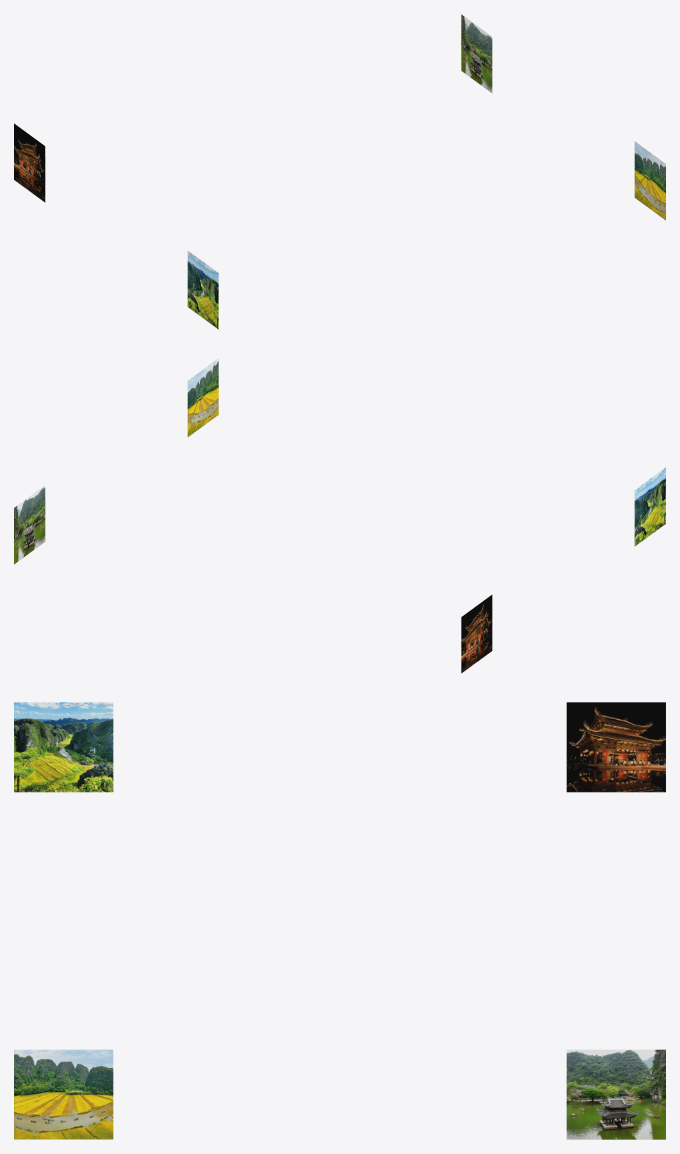
The model's file is bonus img ninhbinh.glb.
3 renders of one model, top to bottom at view 1: azimuth 30°, elevation 25°; view 2: azimuth 150°, elevation 25°; view 3: azimuth 270°, elevation 25°, orthographic. The views are drawn at different scales.
Visible parts, largest first — view 1: bonus_img; view 2: bonus_img; view 3: bonus_img.
Boxes of the visible parts, bbox=[...] form: bonus_img: bbox=[14, 14, 665, 329]; bonus_img: bbox=[14, 358, 665, 673]; bonus_img: bbox=[14, 702, 665, 1139].
Size of the model in its own units: 14.88 by 1.8 by 11.8.
1 material, 1 textured.
